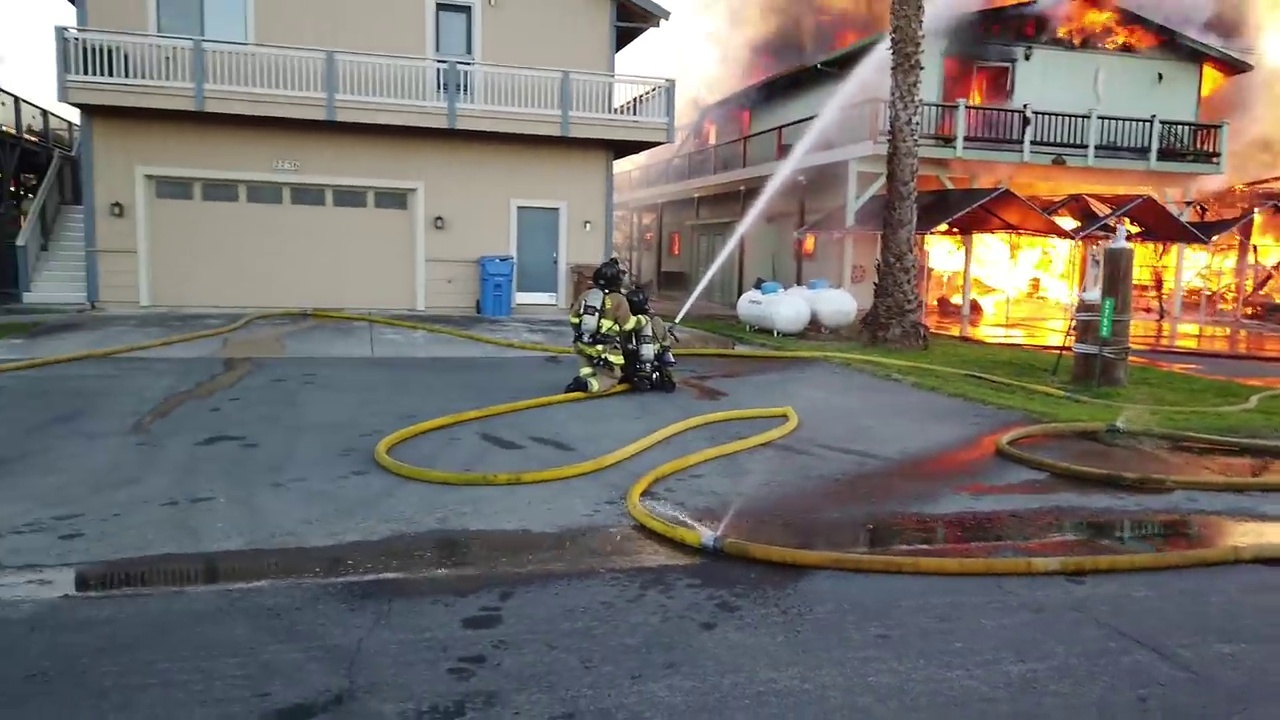fire: (924, 231, 1280, 351), (1050, 1, 1158, 52), (807, 3, 882, 53), (966, 73, 987, 105), (735, 107, 757, 135), (796, 232, 818, 257), (702, 116, 717, 145), (666, 230, 682, 257)
smoke: (1209, 1, 1280, 192), (666, 1, 888, 62), (612, 154, 732, 223), (916, 1, 1028, 74), (673, 63, 793, 106), (1046, 209, 1082, 229), (1250, 207, 1280, 228), (1118, 216, 1150, 231)
